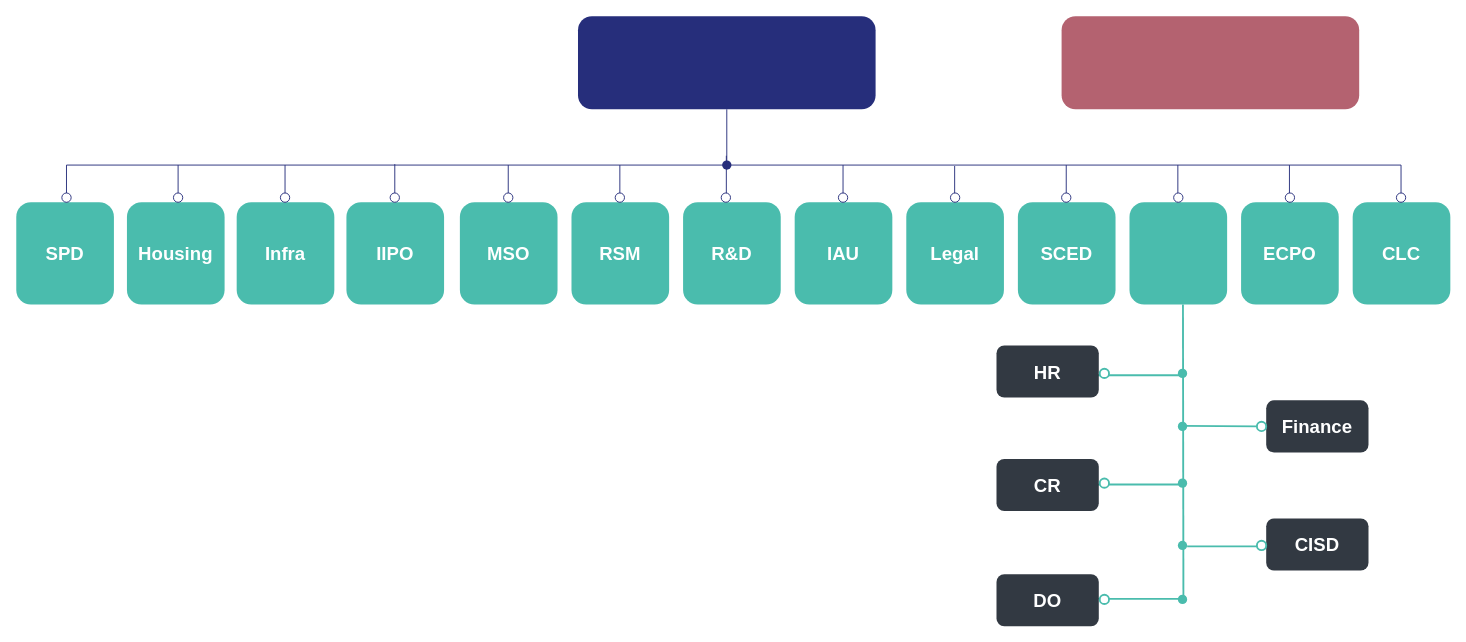
Image size: 1466x642. Some labels were removed from this diagram. Each missing label, with the centre of its shape:
"CDD" belongs at pixel 1178 253.
"MND Top Management" belongs at pixel 726 62.
"Senior Management Organisation Chart" belongs at pixel 1210 62.
